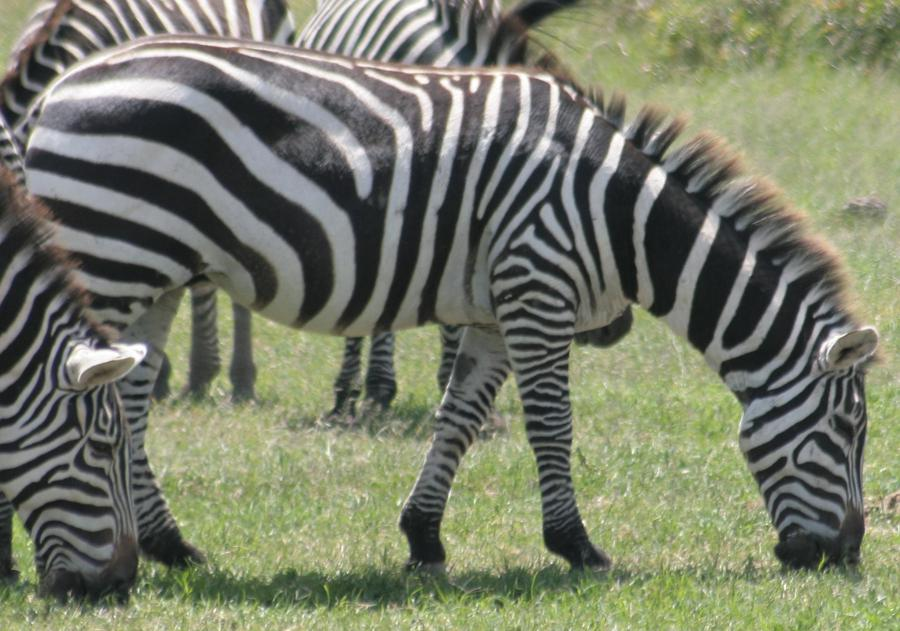zebra_plains: (34, 31, 608, 330)
